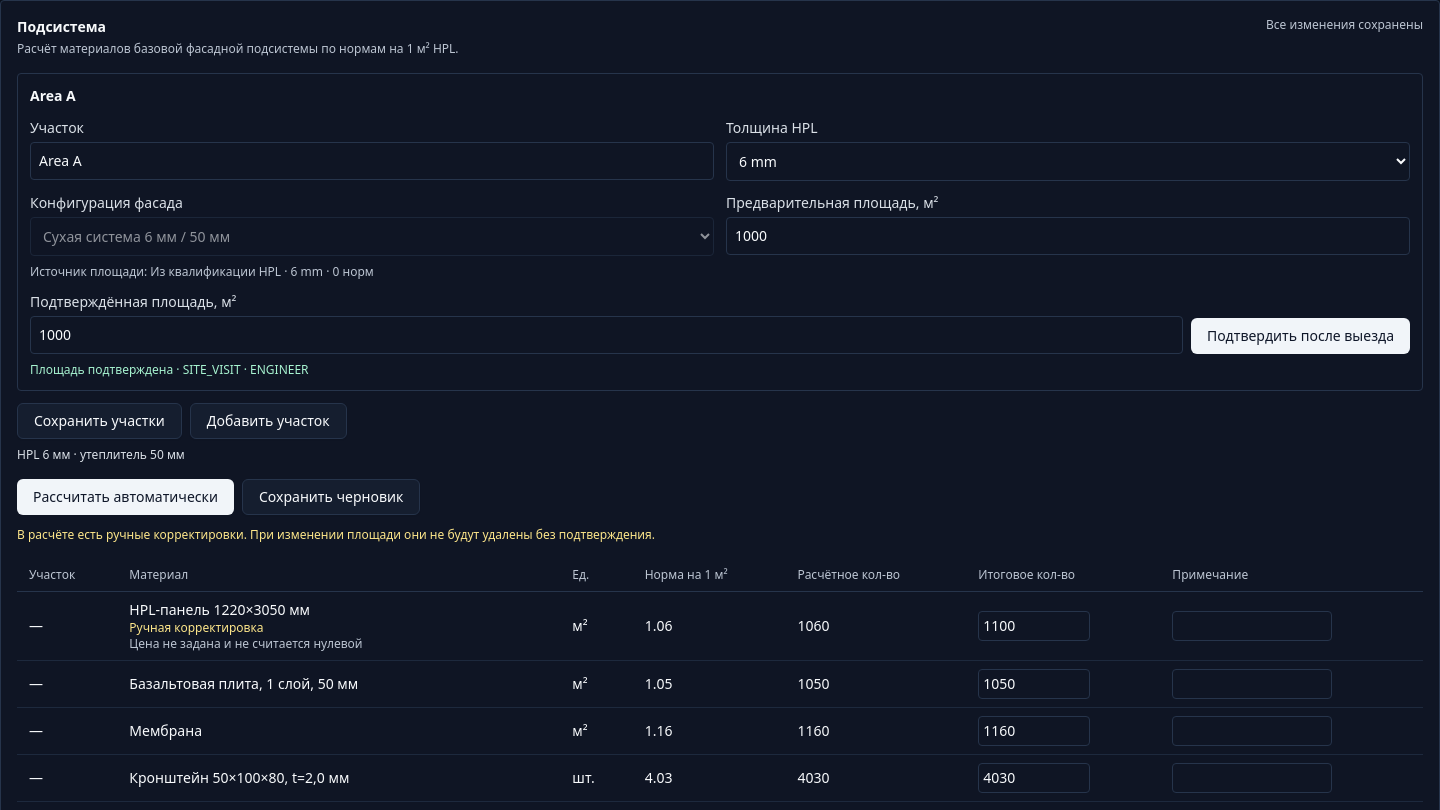
it: FacadeCalculator › keeps a manual quantity after reopen and asks before recalc
This screenshot has width=1440, height=810.
expect the field showing "1100" is shown: met, box [978,611,1090,641]
expect the text "Ручная корректировка" is shown: met, box [129,619,264,636]
Click the button "Рассчитать автоматически" at (126, 497), box [17,479,234,515]
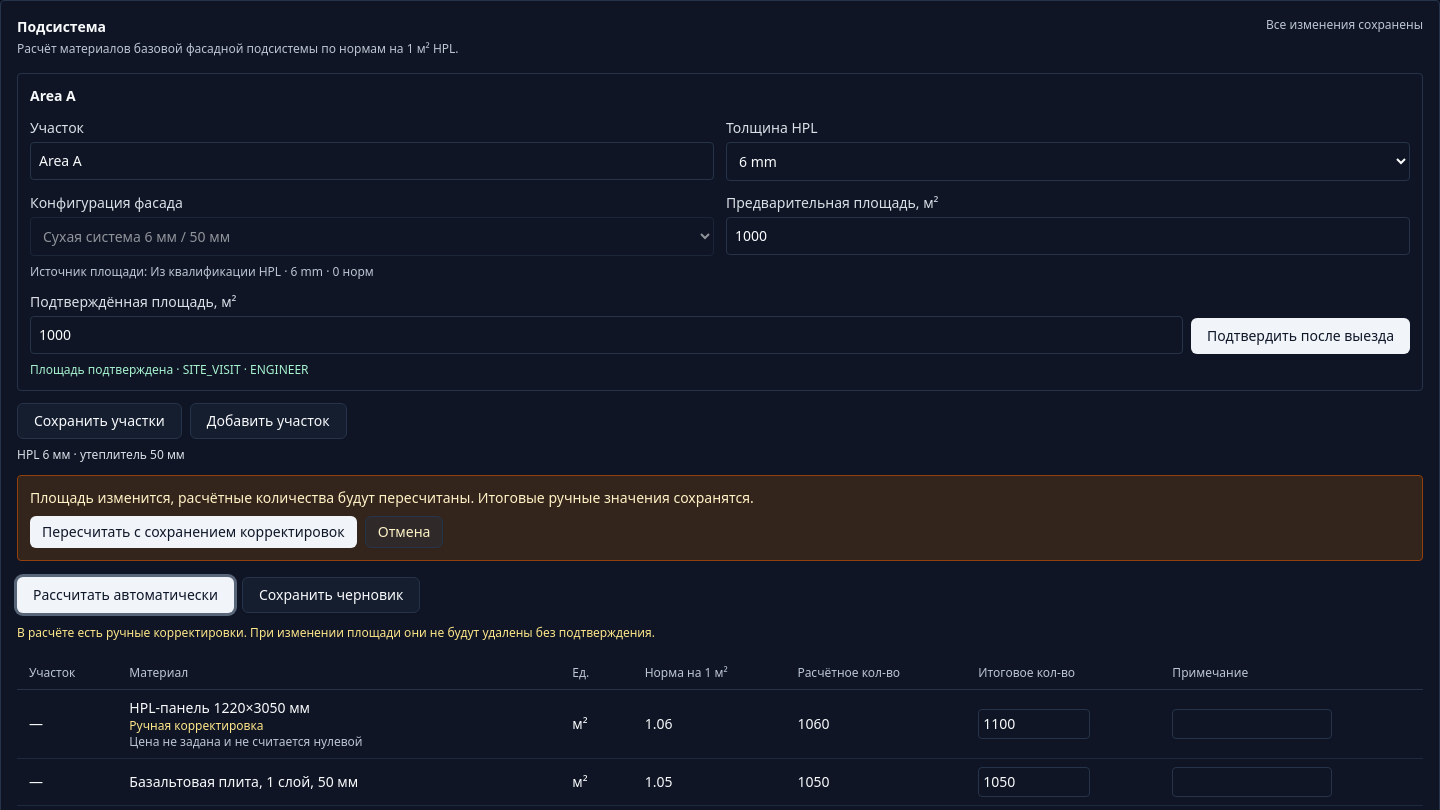
expect the text "Площадь изменится, расчётные количества будут пересчитаны. Итоговые ручные значения сохранятся." is shown: met, box [30,488,754,507]
